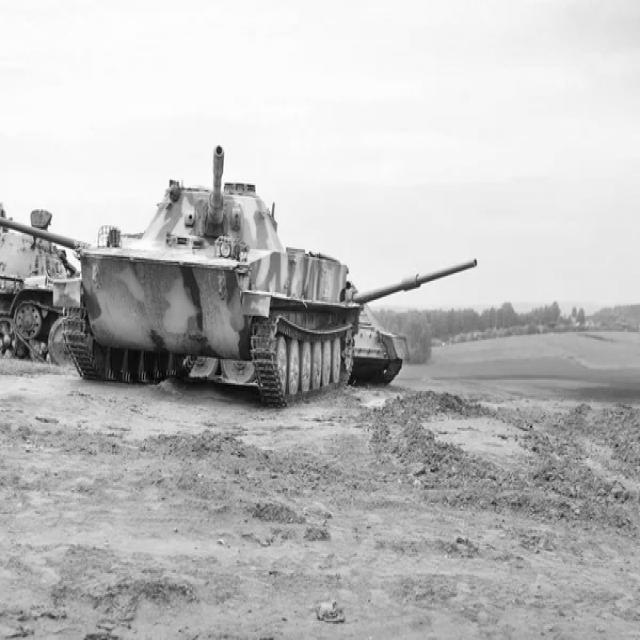Tank: (45, 141, 377, 401)
